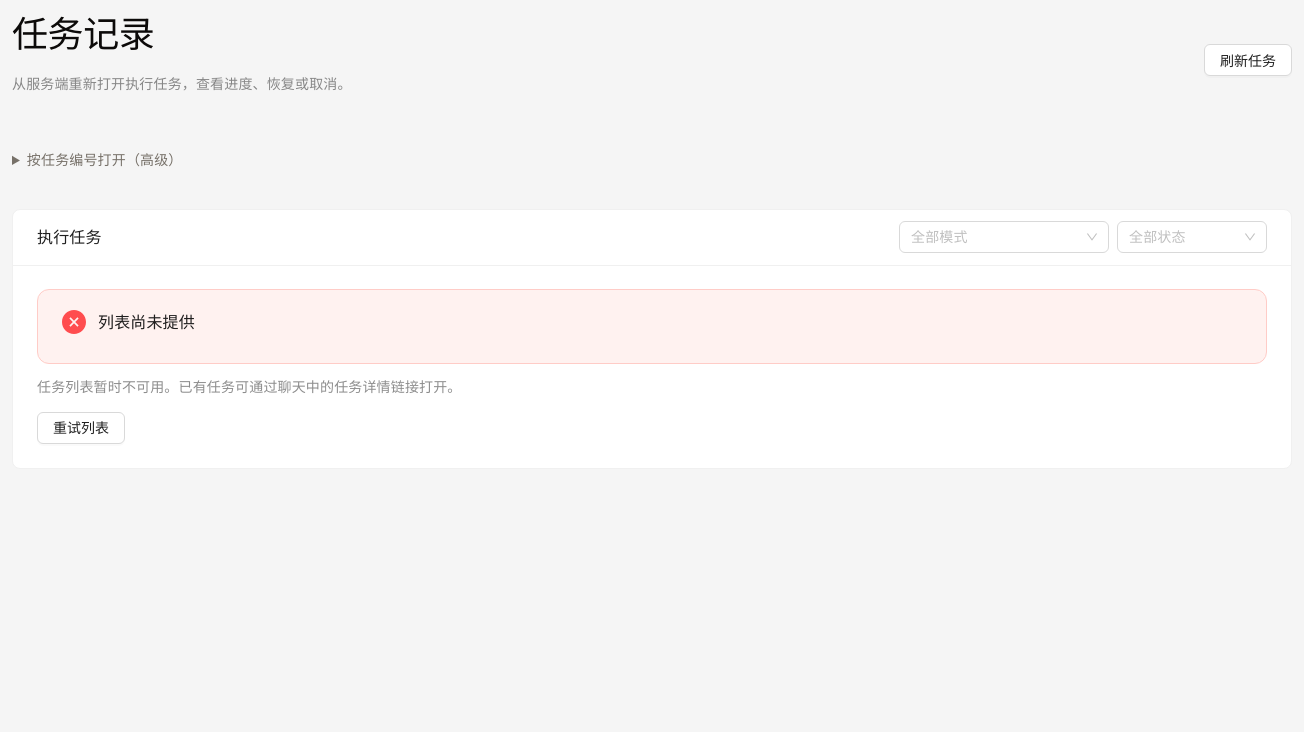
FE10 task recovery (MSW) › reports a missing list API and retains the known-task entry form
Expected: the text "列表尚未提供" is shown, [98,312,195,332]
Click the heading "按任务编号打开（高级）": [105, 159] box [27,151,182,168]
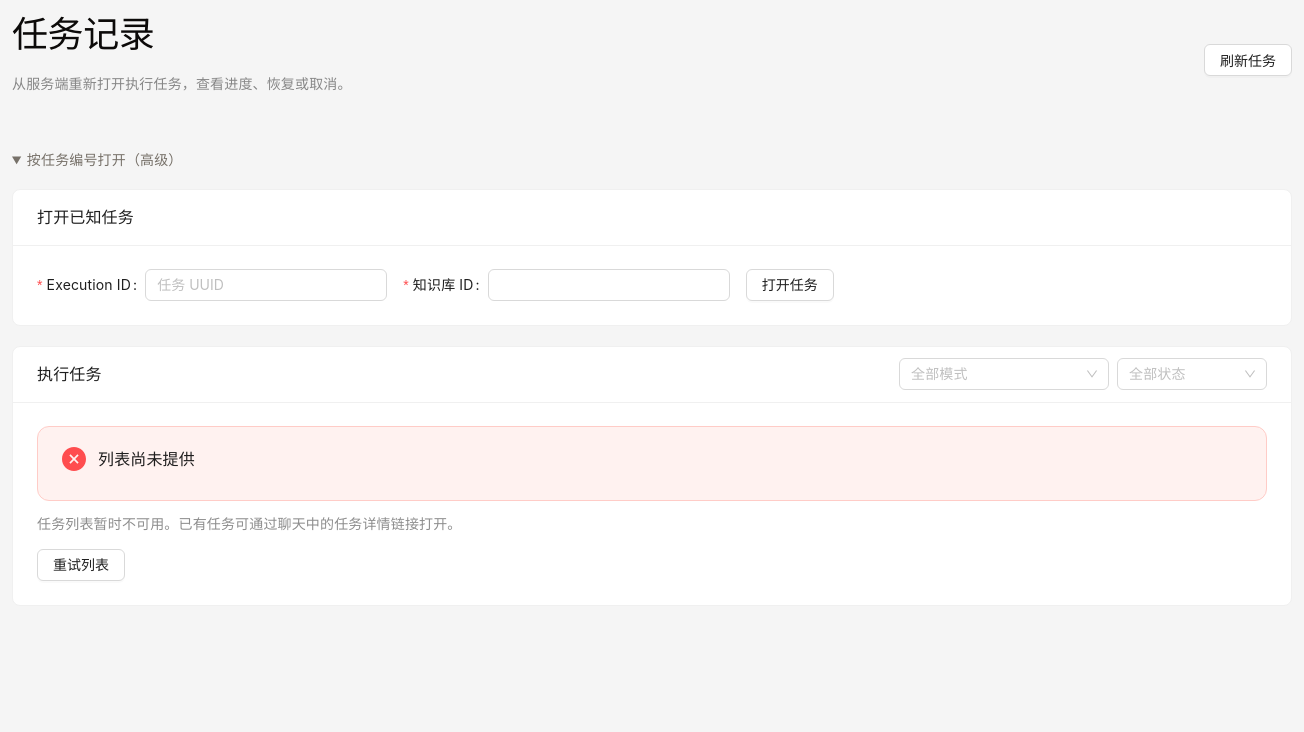
Result: the button "打开任务" is enabled at [746,269,834,301]
